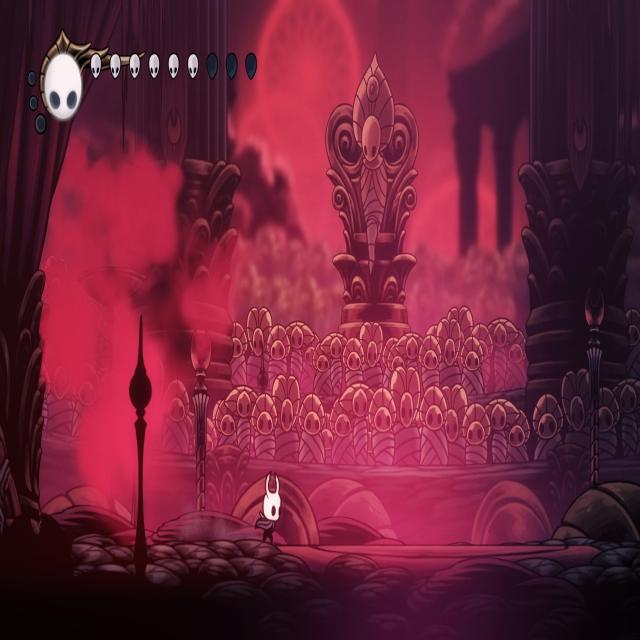Player: (257, 466, 285, 547)
